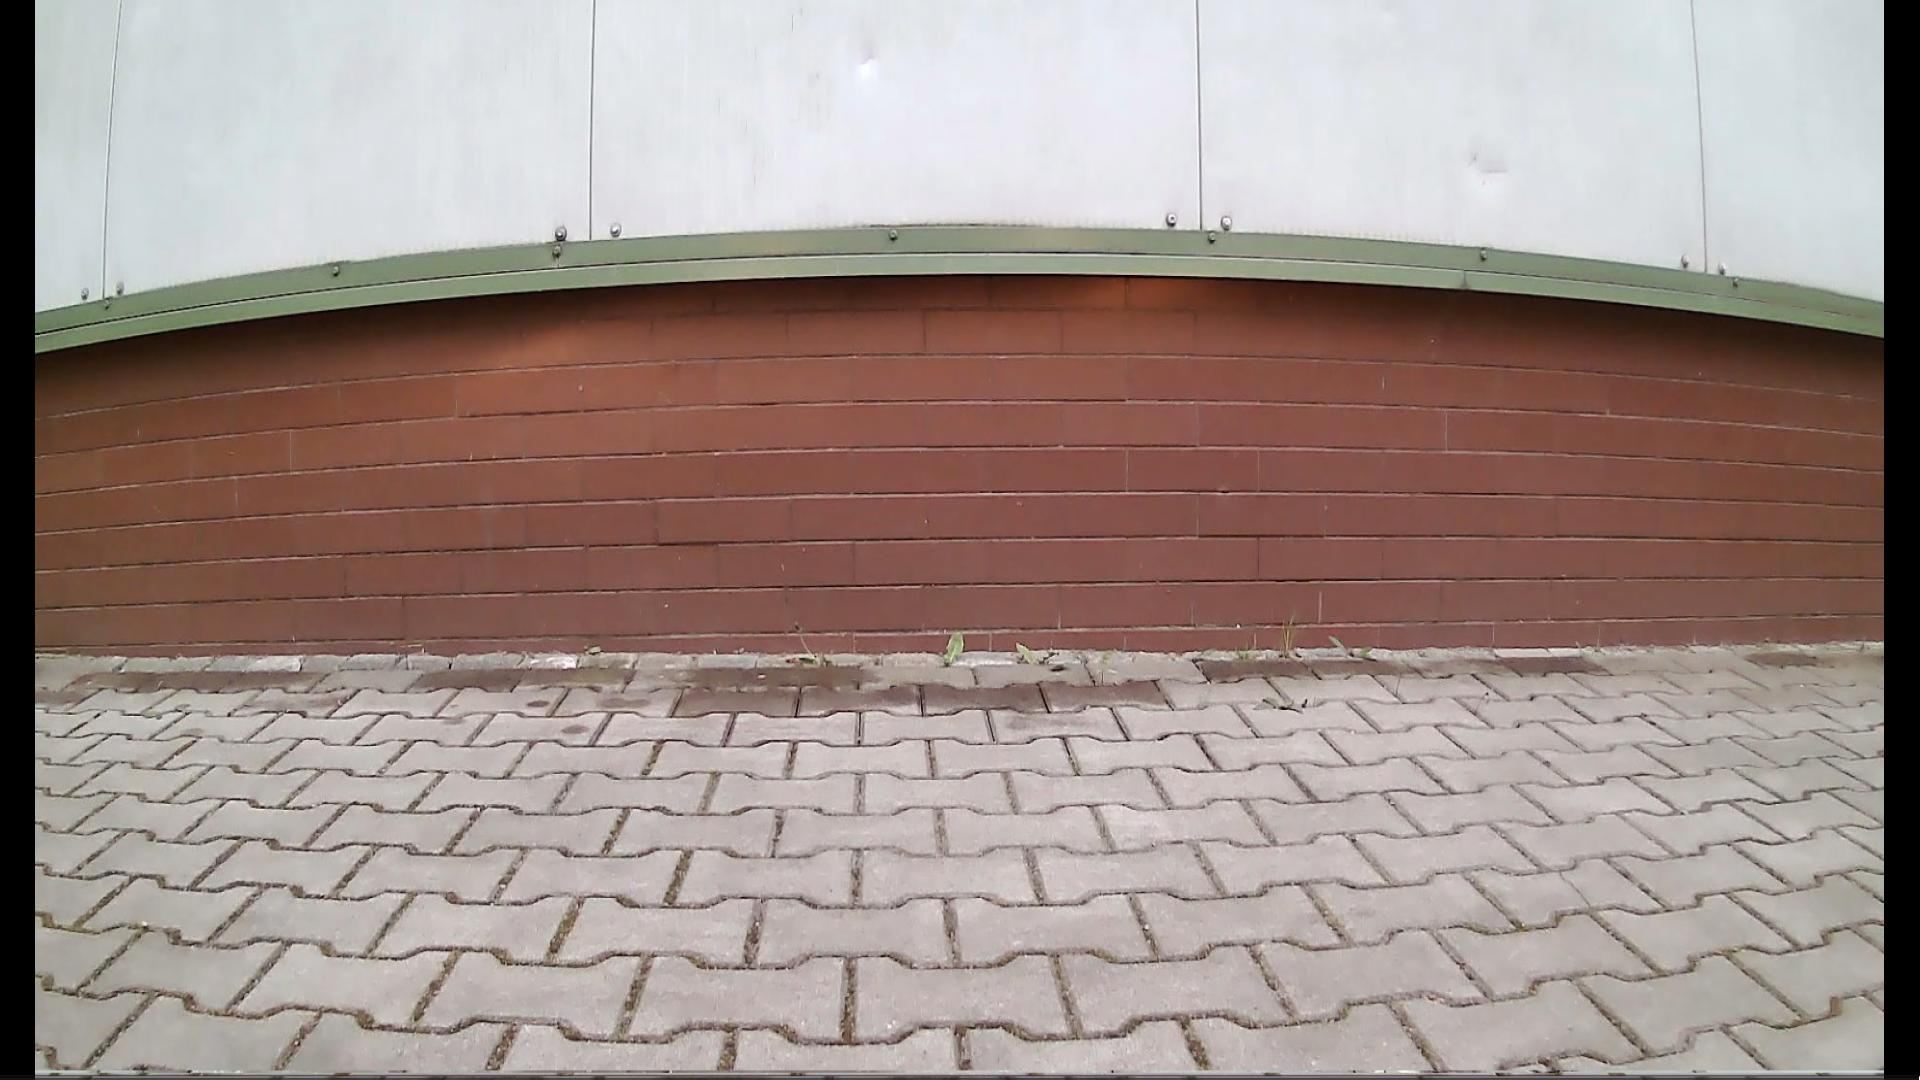wall: (36, 1, 1883, 653)
